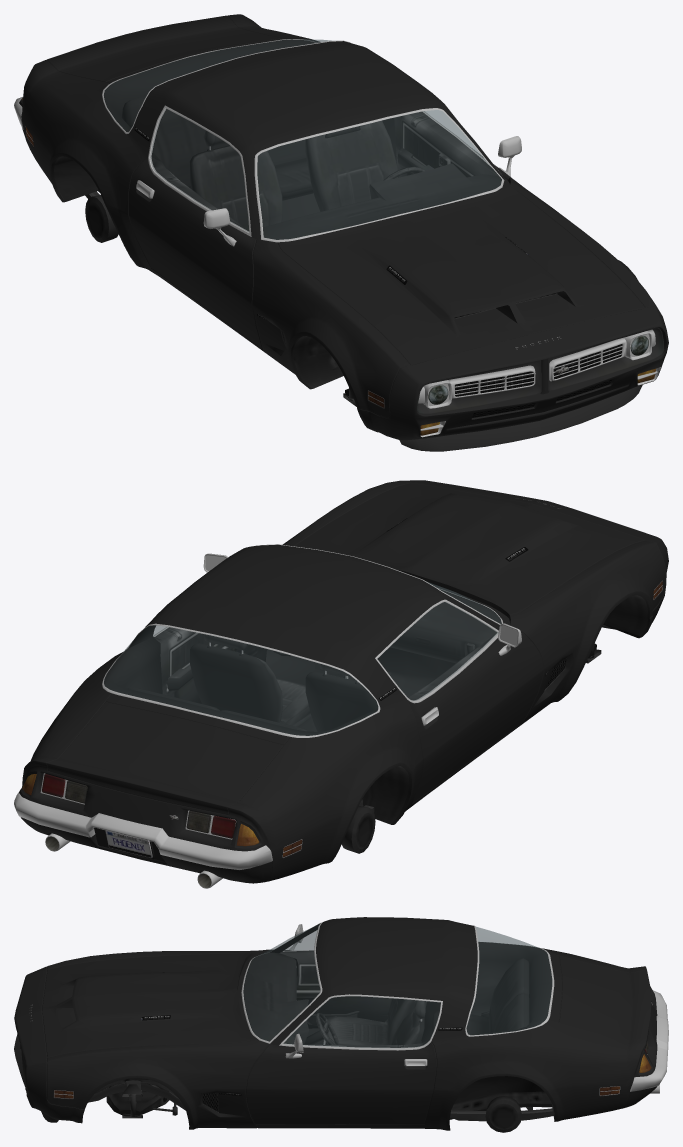
The model's file is car-body.glb.
3 renders of one model, top to bottom at view 1: azimuth 30°, elevation 25°; view 2: azimuth 150°, elevation 25°; view 3: azimuth 270°, elevation 25°, orthographic. The views are drawn at different scales.
Parts seen in each view (by area): view 1: Body, Doorglass_FL, Dashboard, Grill, Suspension_front, Doorcard_FL, Taillights_glass_reverse; view 2: Body, Doorglass_FL, Dashboard, Doorcard_FL, Suspension_front, Grill, Taillights_glass_reverse, Numberplate_rear; view 3: Body, Doorglass_FL, Dashboard, Suspension_front, Doorcard_FL, Grill, Taillights_glass_reverse.
Part boxes in pixels (x1,y1,x2,y2): Body: (19,14,668,440); Doorglass_FL: (104,39,501,239); Dashboard: (121,96,501,239); Grill: (14,97,664,451); Suspension_front: (25,39,660,437); Doorcard_FL: (103,39,500,231); Taillights_glass_reverse: (22,98,656,435); Body: (19,480,668,883); Doorglass_FL: (104,581,501,735); Dashboard: (127,589,501,731); Doorcard_FL: (104,625,496,735); Suspension_front: (49,544,662,871); Grill: (14,773,272,888); Taillights_glass_reverse: (22,581,662,857); Numberplate_rear: (105,830,152,858); Body: (14,917,657,1130); Doorglass_FL: (243,924,551,1047); Dashboard: (243,952,529,1045); Suspension_front: (54,922,620,1132); Doorcard_FL: (270,923,552,1047); Grill: (21,990,668,1122); Taillights_glass_reverse: (54,1042,651,1098).
Size of the model in its own units: 2.09 by 1.2 by 4.89.
Materials: 7 (6 with a texture image).
